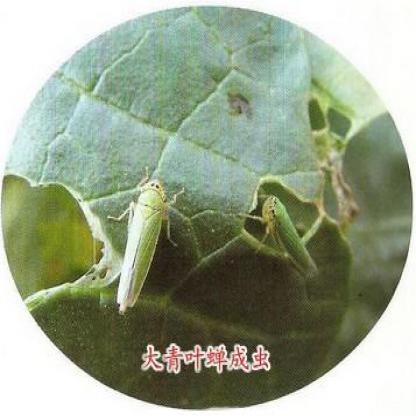Green-Leafhopper: (111, 165, 188, 317), (244, 184, 318, 283)
